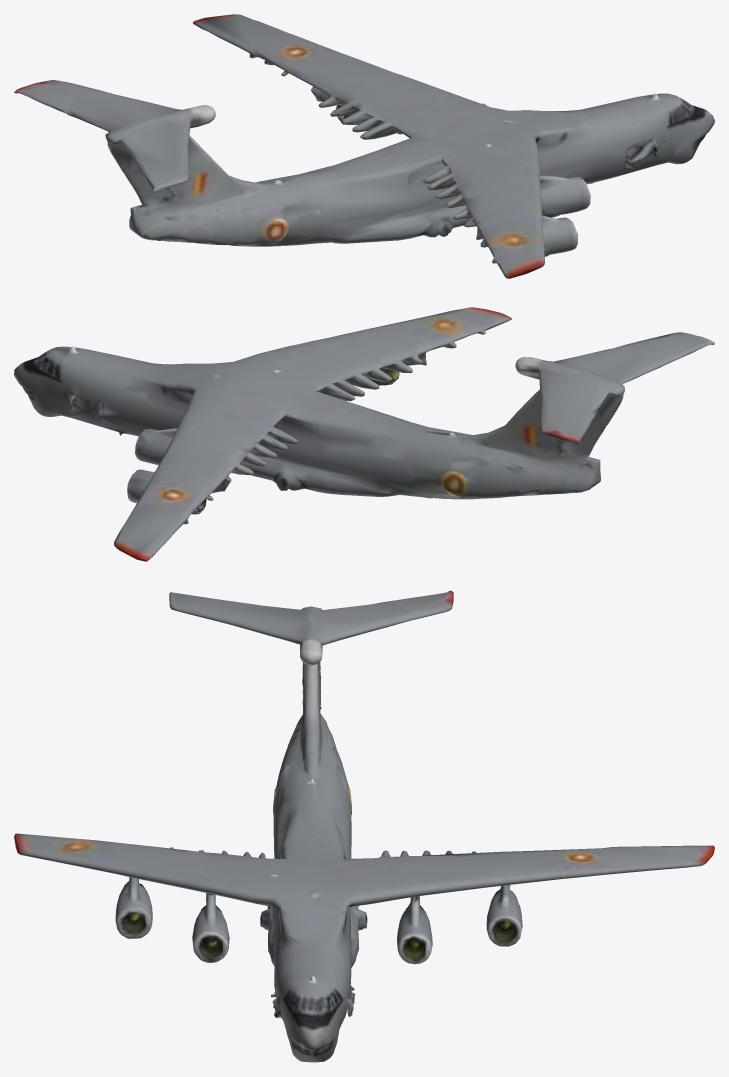
File: il78_tanker.glb
The picture shows the model from 3 angles, top to bottom: view 1: azimuth 30°, elevation 25°; view 2: azimuth 150°, elevation 25°; view 3: azimuth 270°, elevation 25°; orthographic projection. The views are drawn at different scales.
Parts seen in each view (by area): view 1: tripo_node_ab673879-9d5f-4428-9248-7fe7245303a7; view 2: tripo_node_ab673879-9d5f-4428-9248-7fe7245303a7; view 3: tripo_node_ab673879-9d5f-4428-9248-7fe7245303a7.
Boxes of the visible parts, x1=… form: tripo_node_ab673879-9d5f-4428-9248-7fe7245303a7: x1=14, y1=14, x2=714, y2=278; tripo_node_ab673879-9d5f-4428-9248-7fe7245303a7: x1=14, y1=307, x2=714, y2=561; tripo_node_ab673879-9d5f-4428-9248-7fe7245303a7: x1=14, y1=590, x2=714, y2=1062.
Size of the model in its own units: 0.9992 by 0.262 by 0.9288.
1 material, 1 textured.
